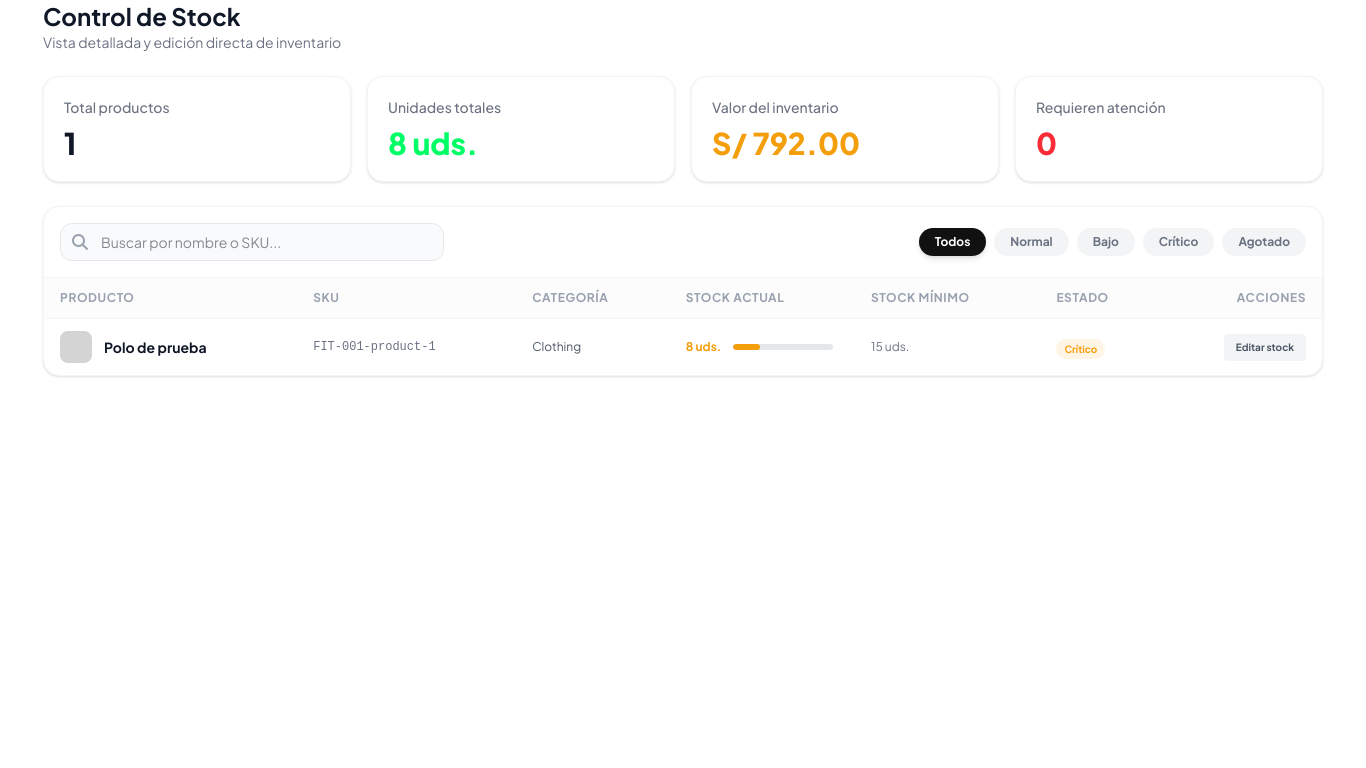
inventory modal positioning › renders the stock dialog directly under document.body
Click the button "Editar stock": (1265, 348) 1224,334 -> 1306,361
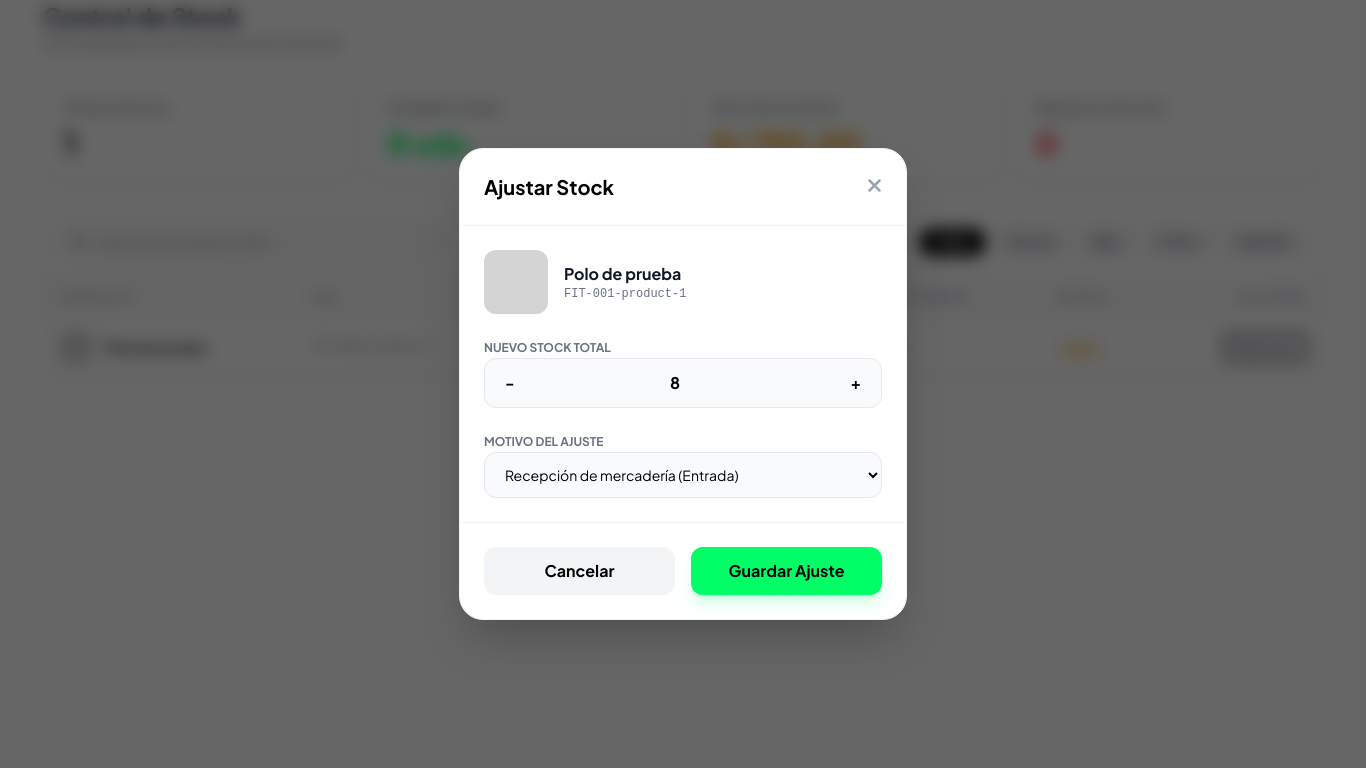
Now the dialog "Ajustar Stock" is shown, box 459,148 -> 907,620
